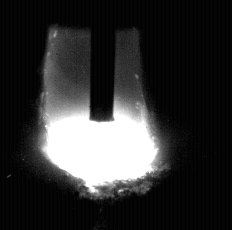arame: (91, 0, 115, 123)
poca: (46, 0, 155, 230)
